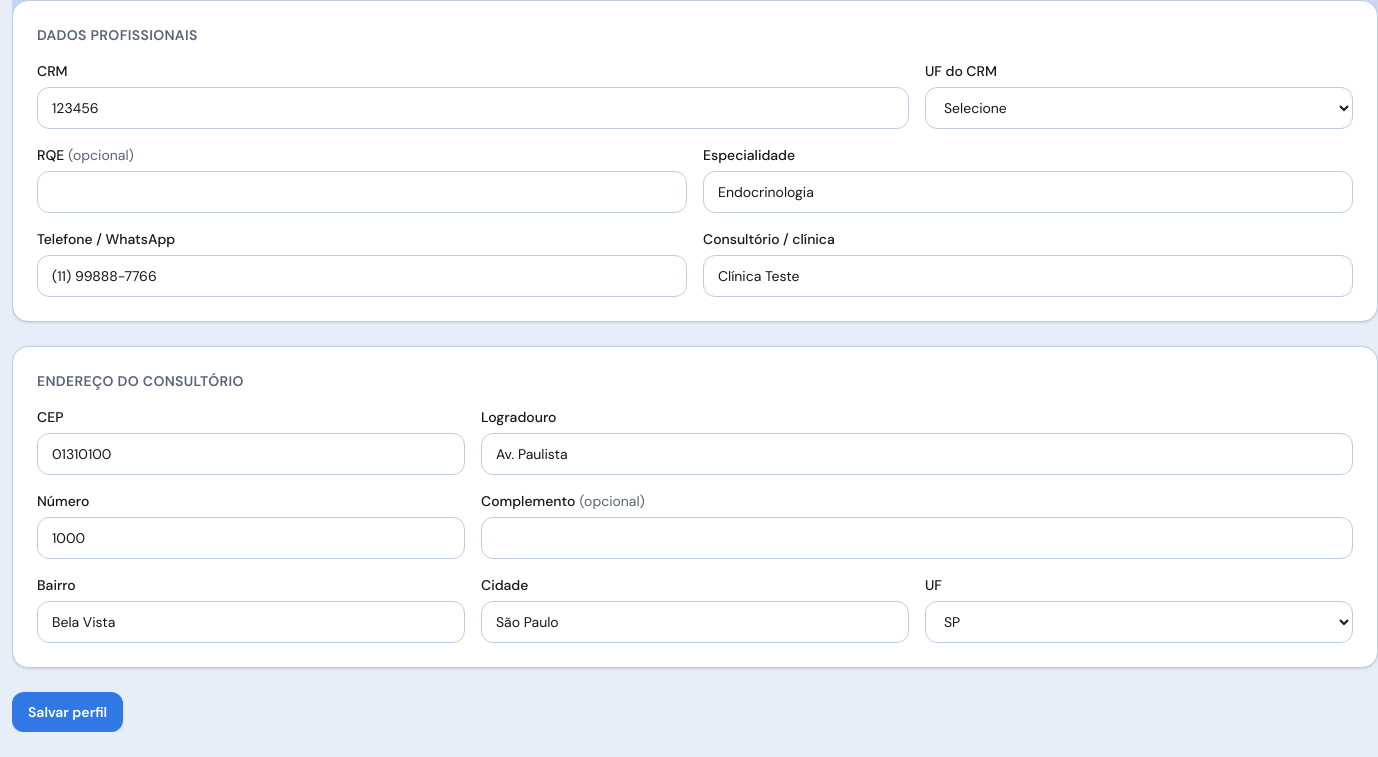
DoctorProfileForm › shows Selecione a UF do CRM when CRM UF is empty
Select "Selecione" in the dropdown labelled "UF do CRM" at point(1139, 108), box left=925, top=87, right=1353, bottom=129
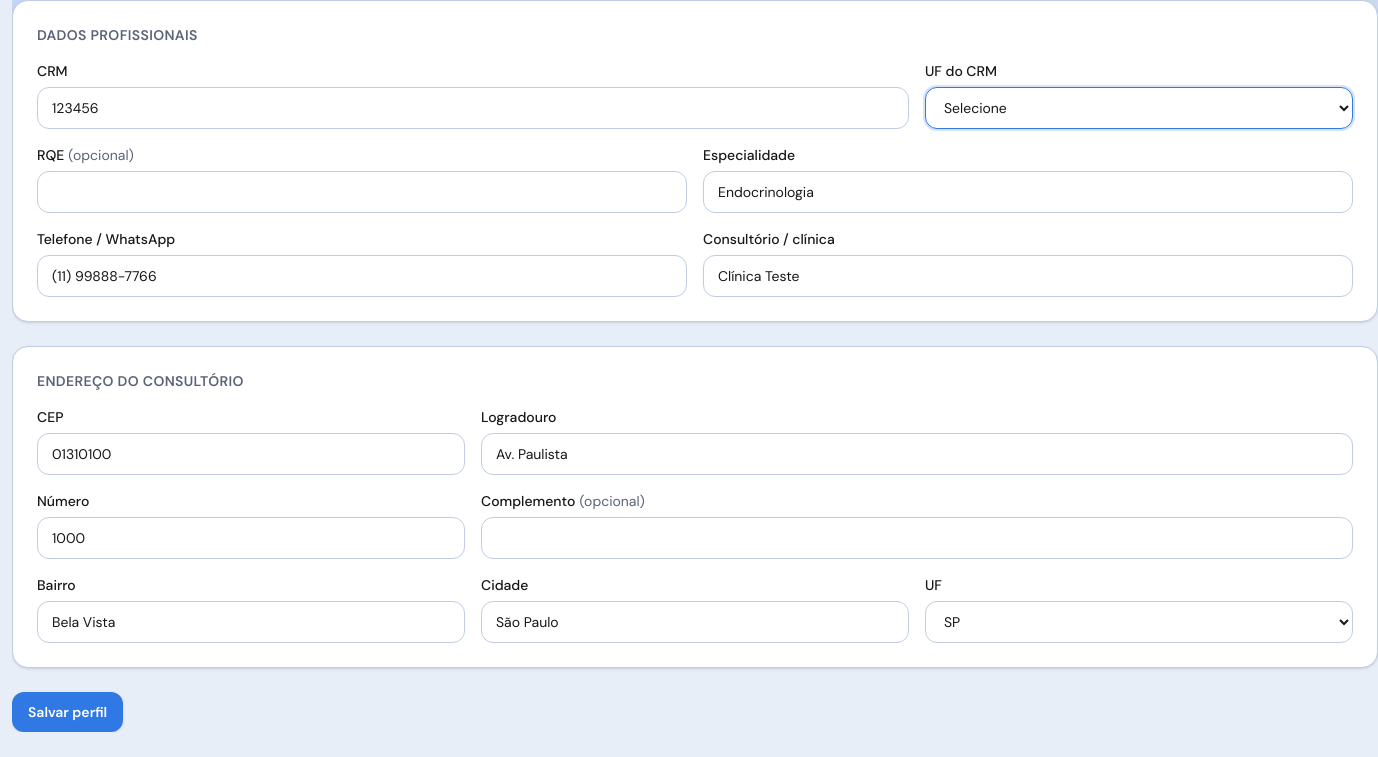
Click the button "Salvar perfil" at point(68, 712), box left=12, top=692, right=123, bottom=732
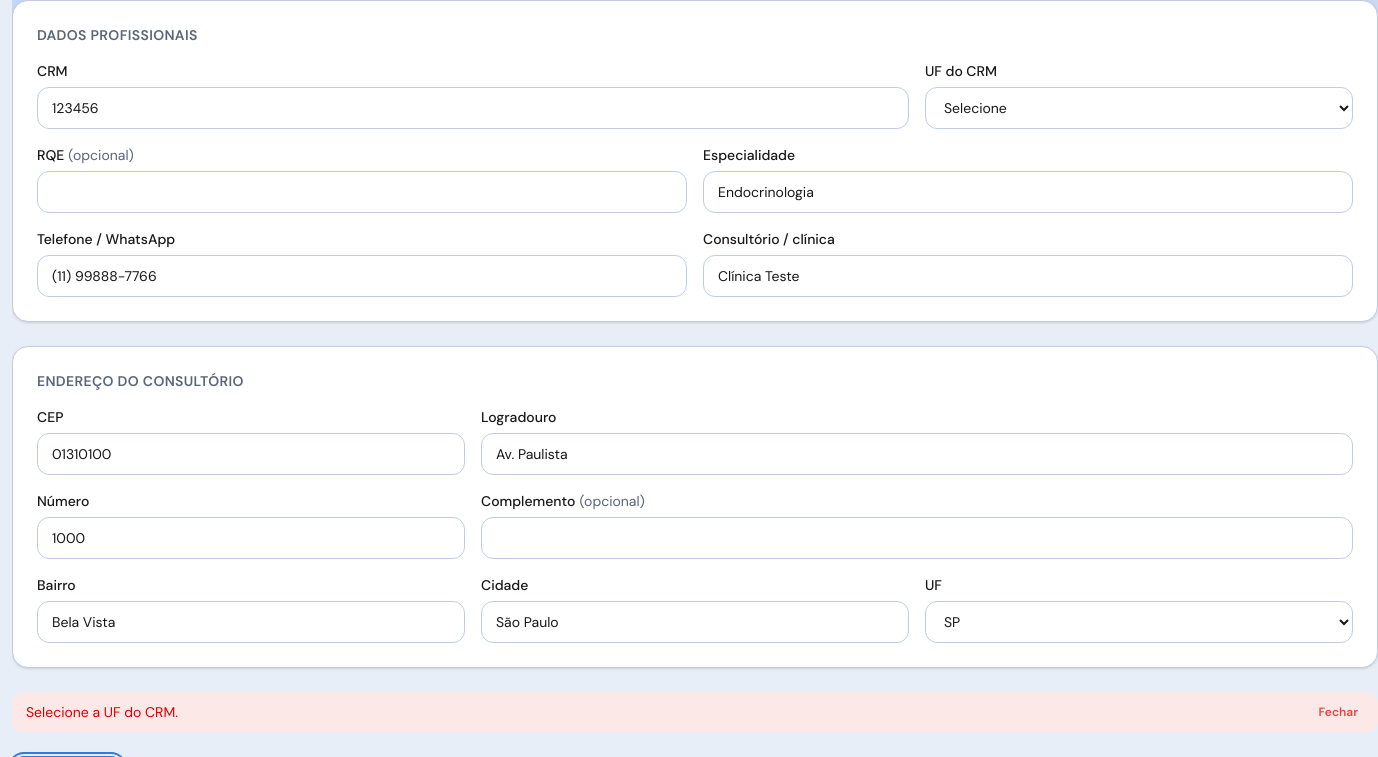
Now the message shows "Selecione a UF do CRM.", box left=26, top=703, right=178, bottom=721
